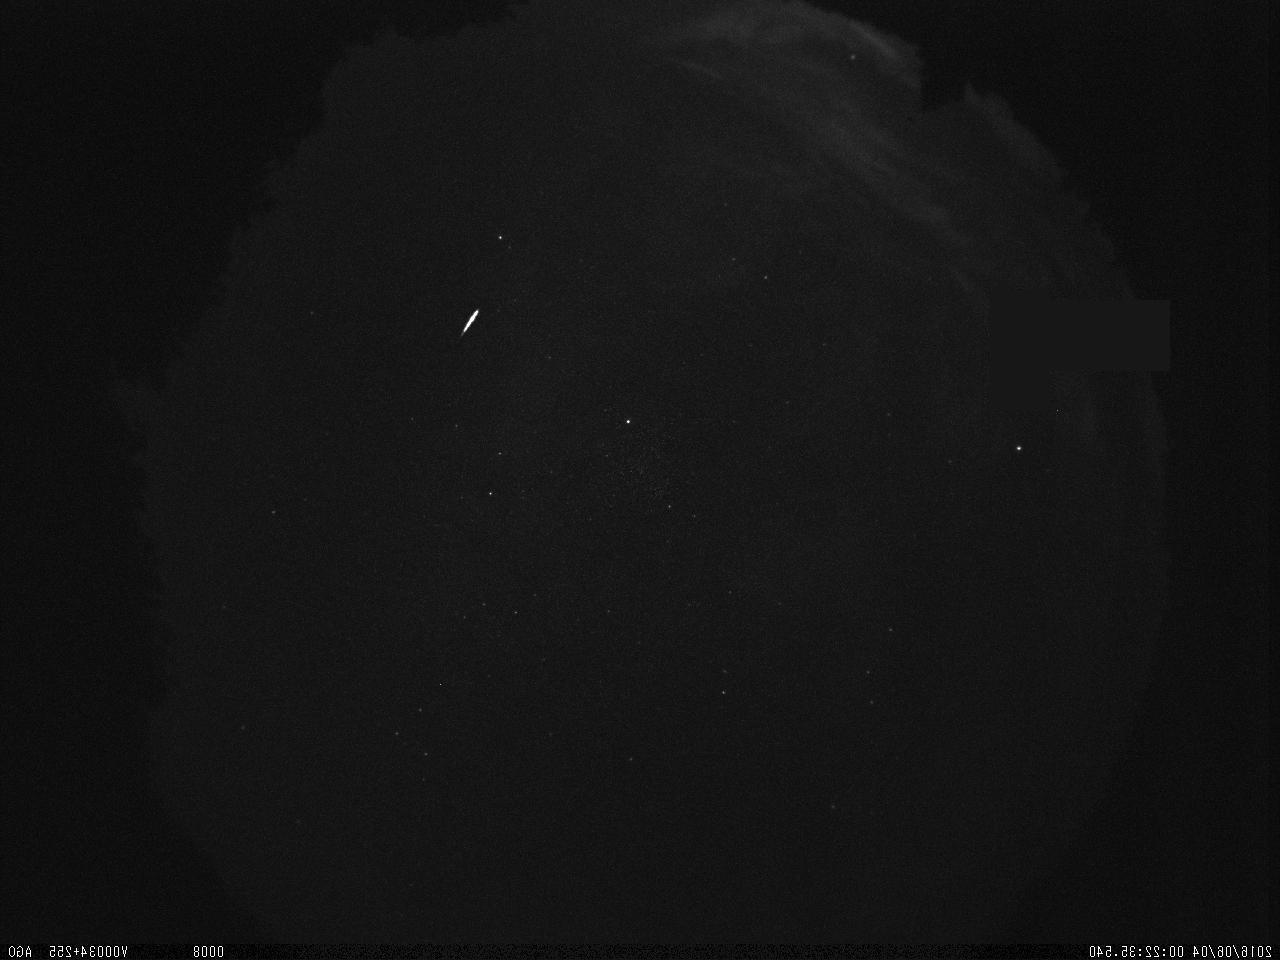meteor: (446, 307, 490, 337)
